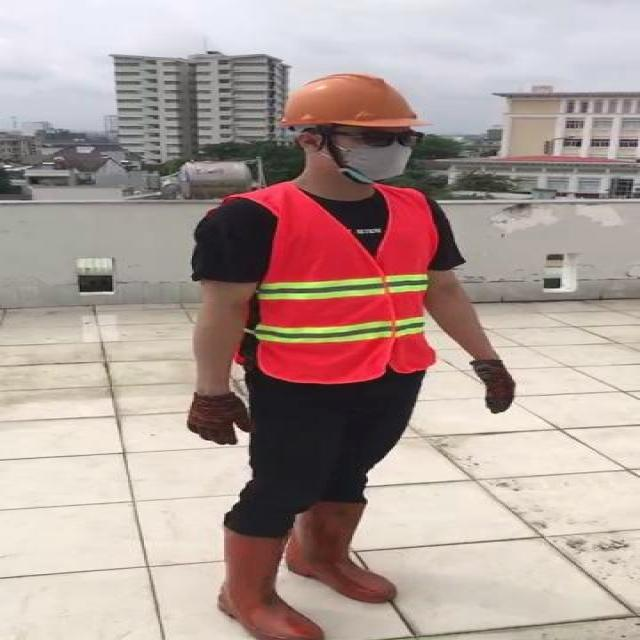boots: (214, 524, 324, 640), (288, 500, 398, 602)
face_mask: (332, 122, 424, 185)
glasses: (344, 121, 426, 152)
hand_glove: (185, 395, 254, 445), (470, 359, 516, 414)
head_helmet: (282, 71, 424, 129)
person: (178, 71, 526, 640)
vest: (242, 188, 434, 385)
